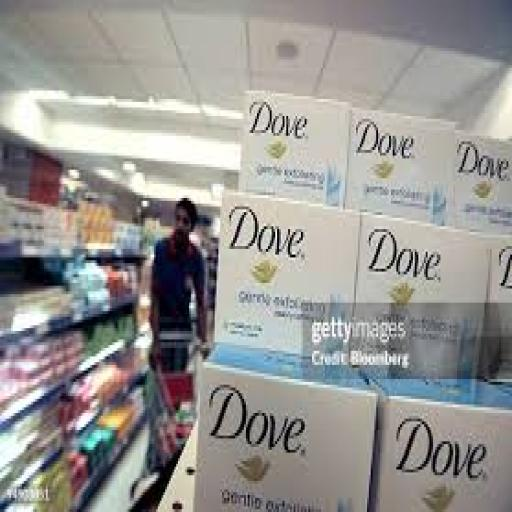Dove`1: (194, 333, 381, 512), (213, 191, 361, 373), (350, 216, 494, 381), (336, 103, 477, 227), (369, 392, 510, 509), (237, 87, 355, 212), (460, 127, 510, 236)
